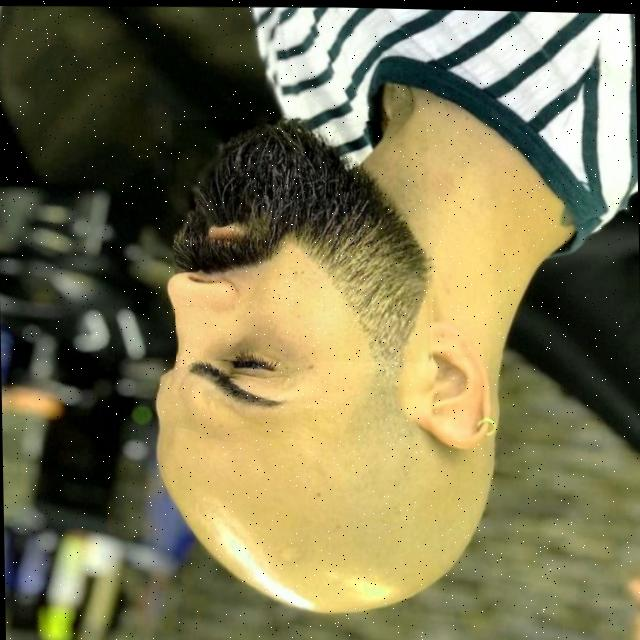beard: (174, 120, 428, 359)
